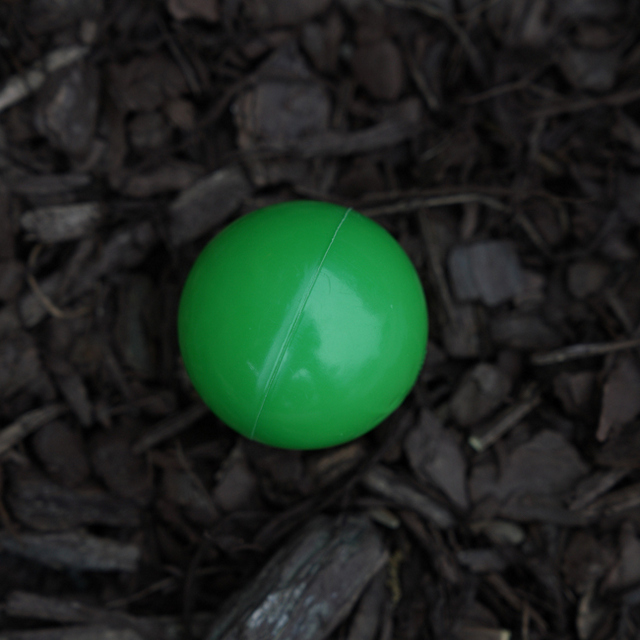Ball: (179, 198, 430, 446)
